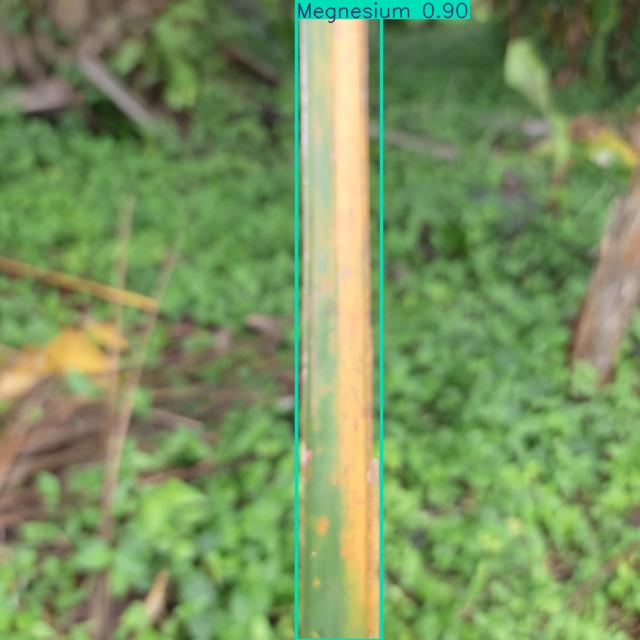Megnesium: (296, 0, 381, 640)
